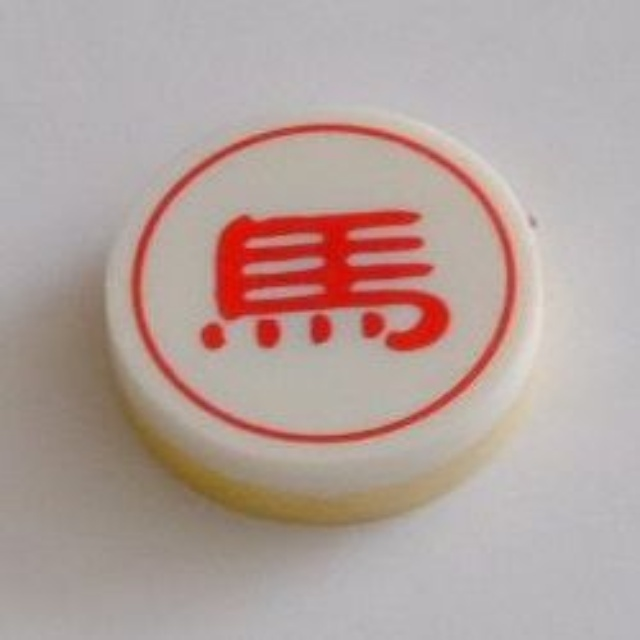red_ma: (91, 98, 557, 531)
